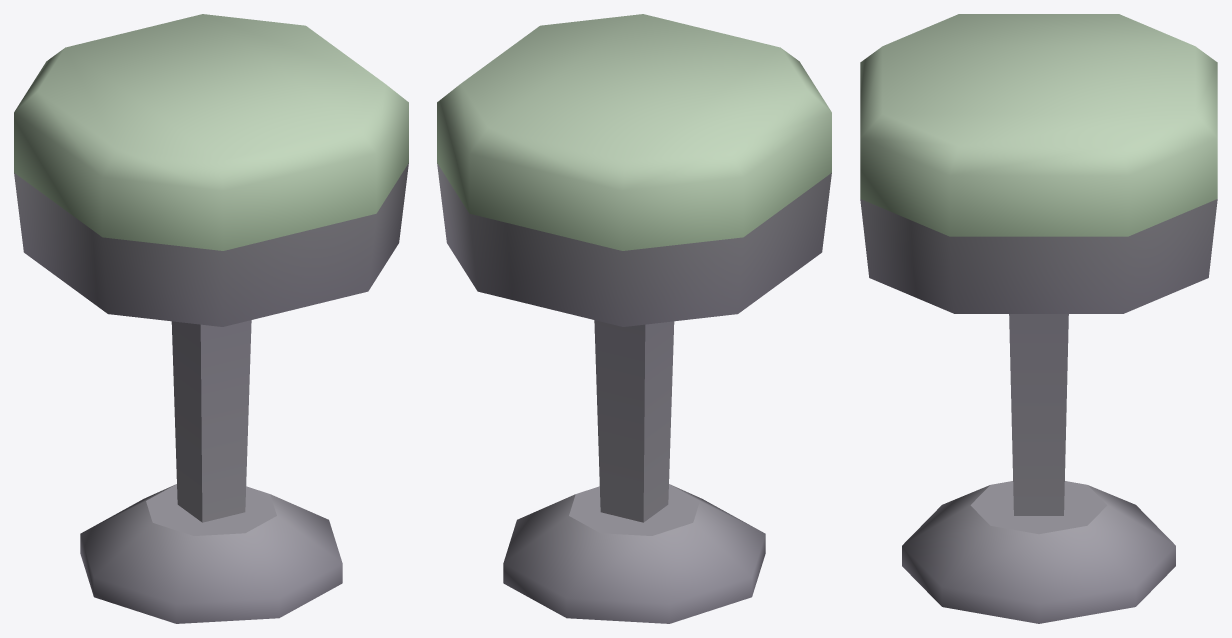
The model's file is bar-stool-metal-base.glb.
The picture shows the model from 3 angles, left to right: view 1: azimuth 30°, elevation 25°; view 2: azimuth 150°, elevation 25°; view 3: azimuth 270°, elevation 25°; orthographic projection.
Visible parts, largest first — view 1: bar-stool-metal-base; view 2: bar-stool-metal-base; view 3: bar-stool-metal-base.
Boxes of the visible parts, x1,y1,x2,y2 form: bar-stool-metal-base: (14,14,408,623); bar-stool-metal-base: (437,14,831,623); bar-stool-metal-base: (860,14,1217,623).
Bounding box in the file's own units: 0.4 × 0.6 × 0.4.
